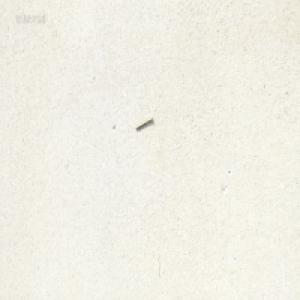Bolt: (134, 115, 152, 130)
